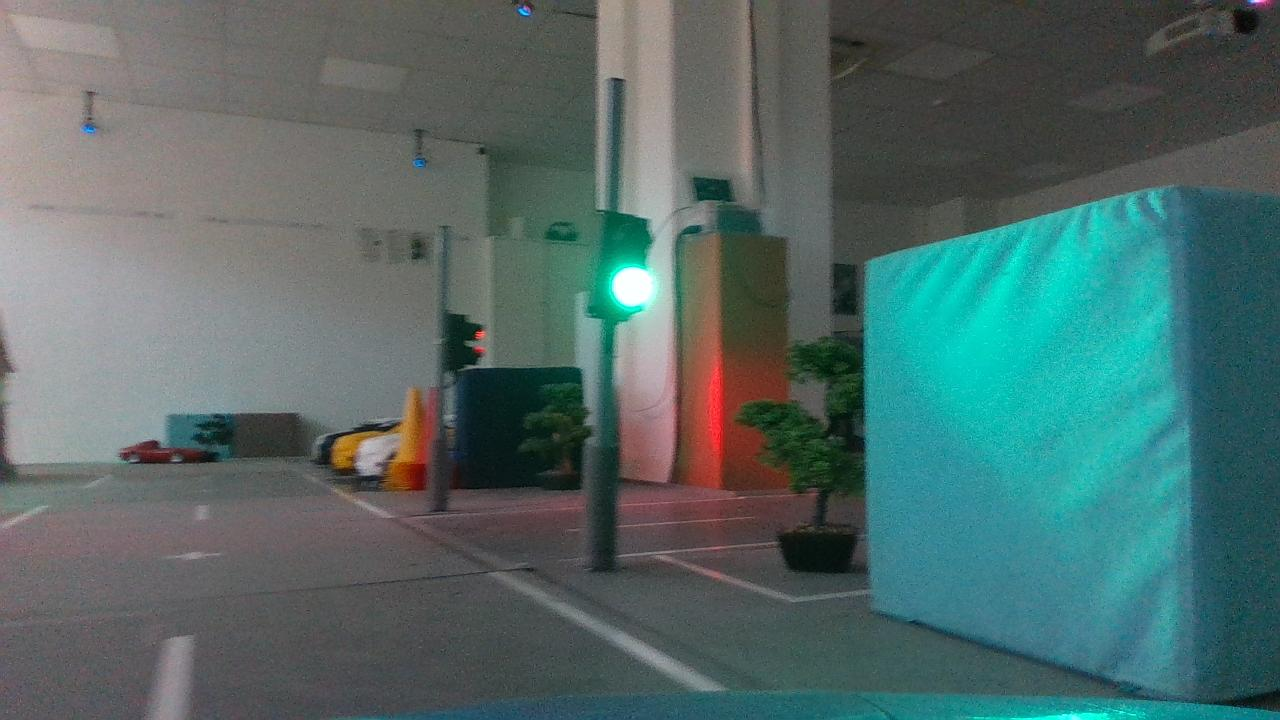traffic_light_green: (567, 187, 677, 338)
